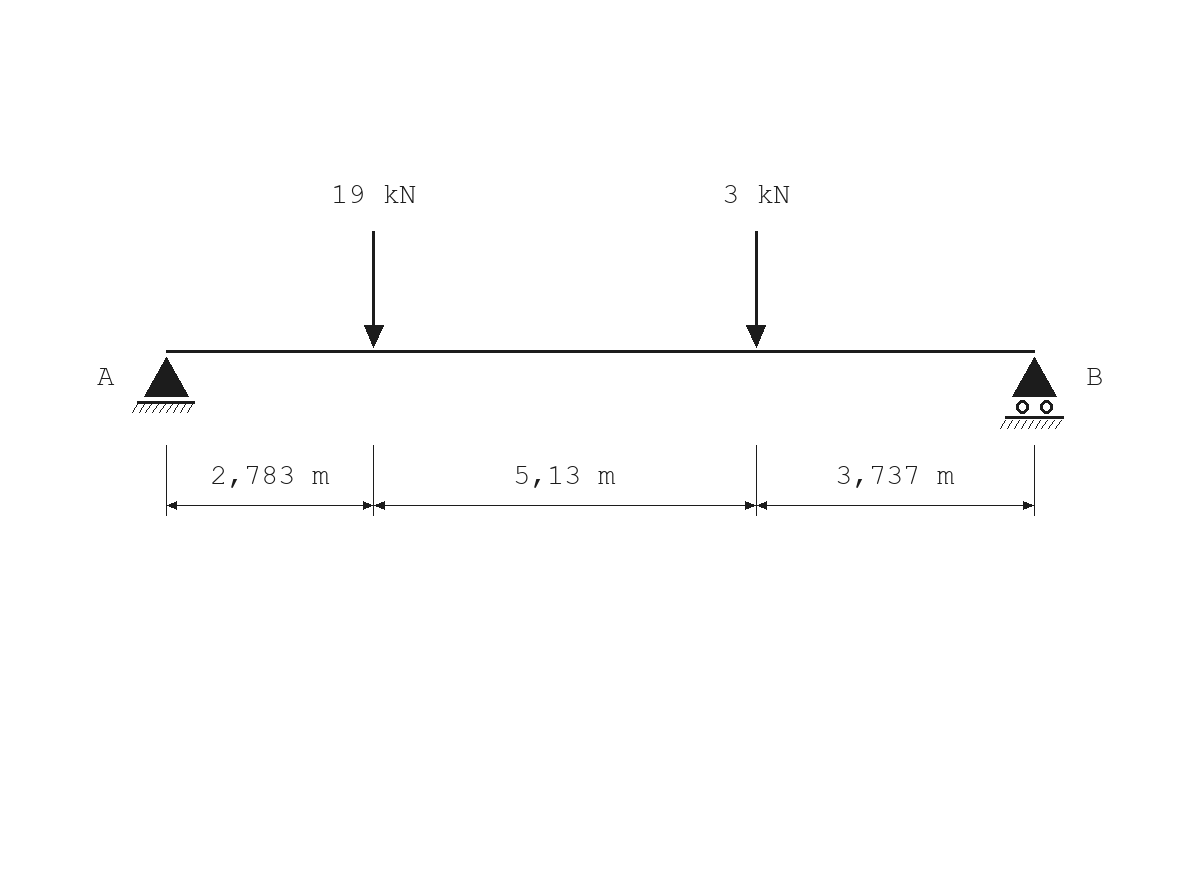pin_support: (132, 357, 195, 413)
point_load: (364, 231, 384, 348), (746, 231, 766, 348)
roller_support: (1000, 357, 1064, 429)
